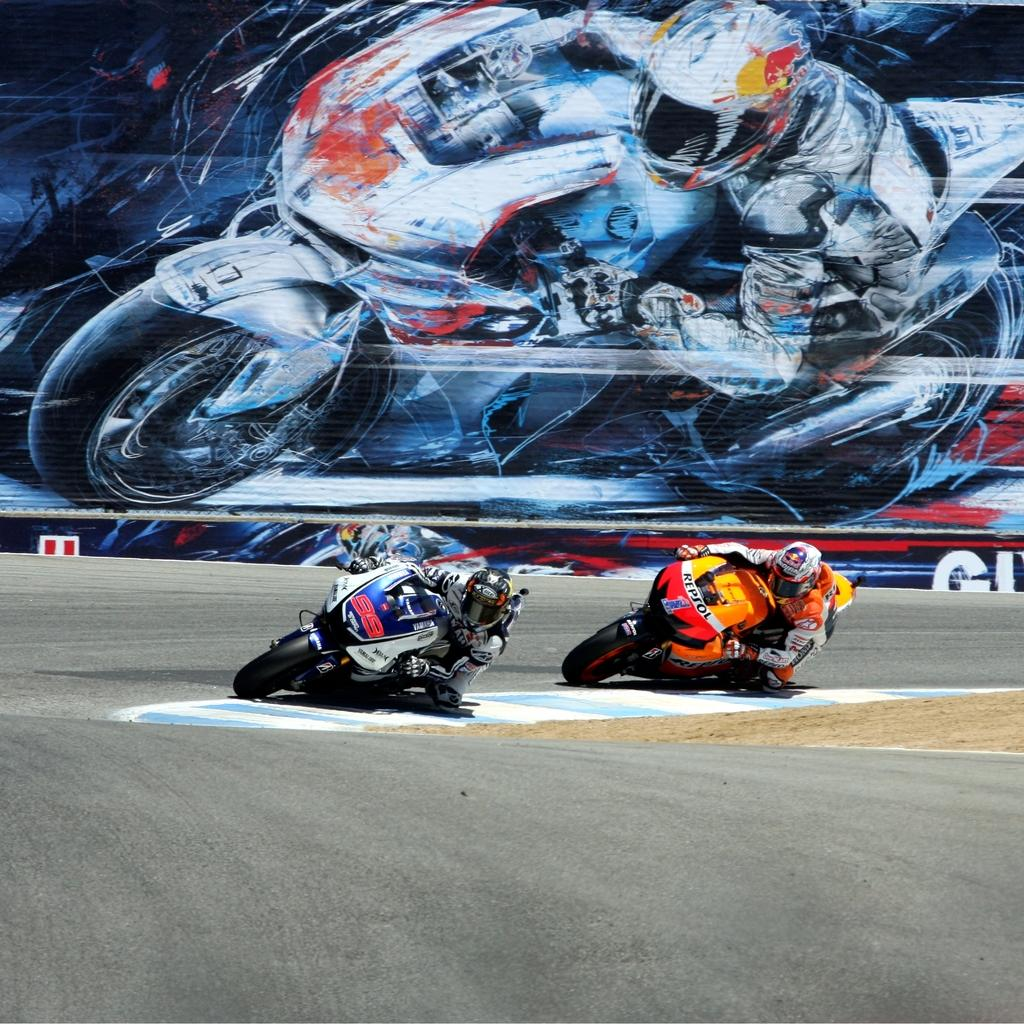helmet: (629, 0, 814, 193), (767, 541, 822, 605), (460, 567, 513, 633)
